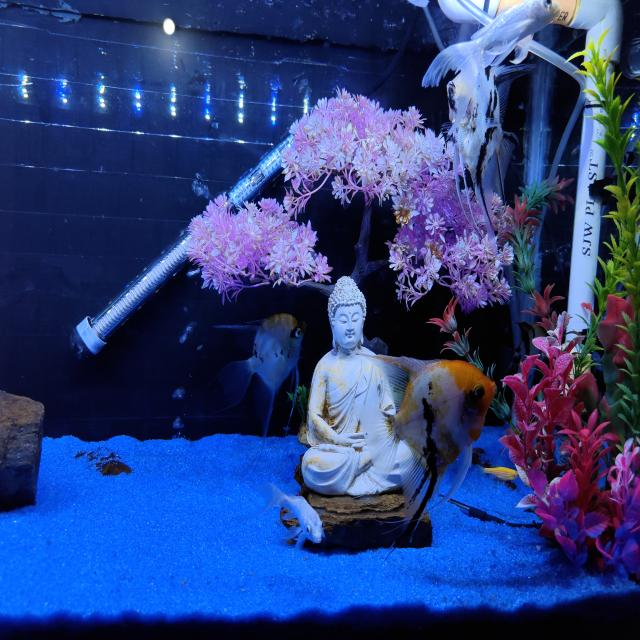Fish: (423, 0, 560, 249), (356, 357, 496, 538), (448, 65, 532, 251), (423, 0, 560, 113), (216, 314, 306, 437), (239, 483, 324, 553), (483, 467, 518, 481)
